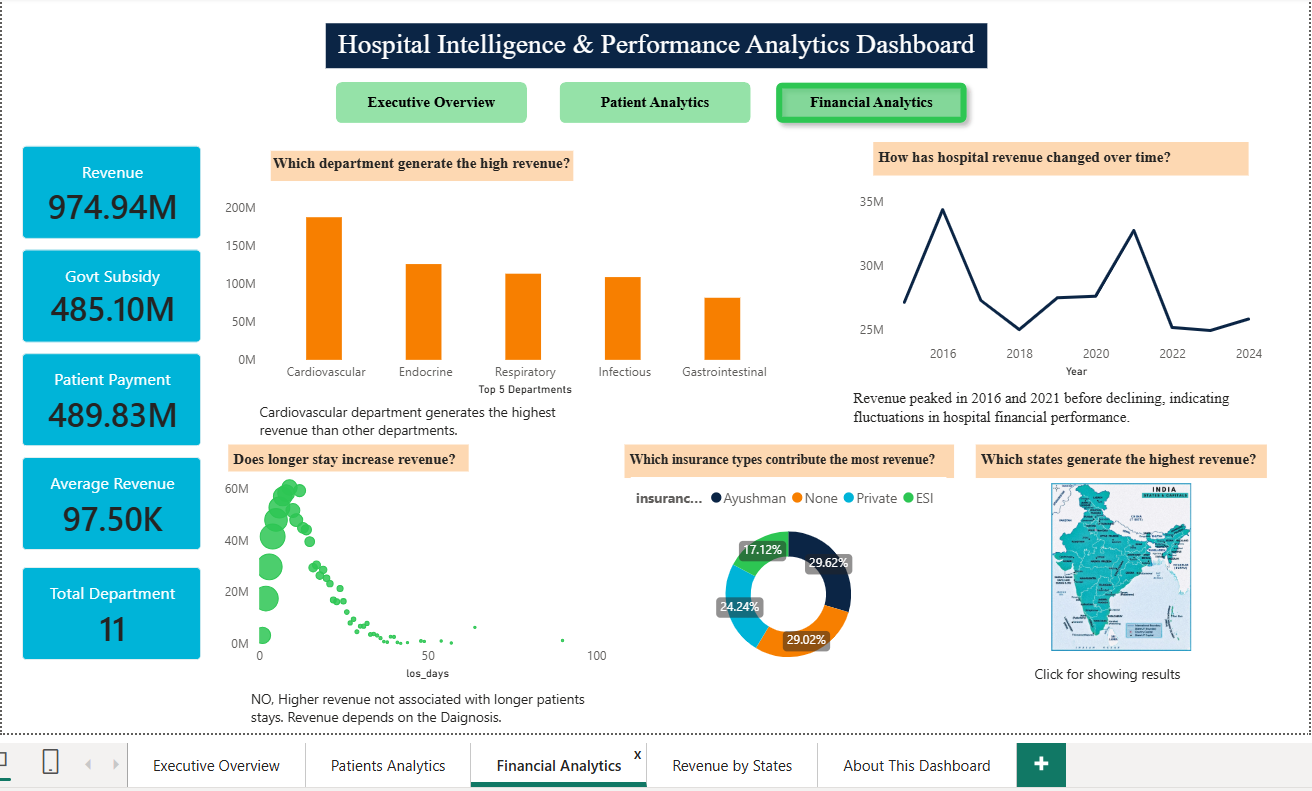

This screenshot's page, from the dashboard's own definition file:
{"tool":"powerbi","page":{"name":"Financial  Analytics","canvas":[1280,720],"ordinal":2},"visuals":[{"type":"textbox","box":[316.7,25.7,646.9,44],"z":0},{"type":"cardVisual","fields":{"Data":["Sum(public hospital_data.total_cost)"]},"box":[14.7,140.6,185.9,101.5],"z":1000},{"type":"cardVisual","fields":{"Data":["Sum(public hospital_data.govt_subsidy)"]},"box":[14.7,242.1,185.9,101.5],"z":2000},{"type":"cardVisual","fields":{"Data":["Sum(public hospital_data.patient_payment)"]},"box":[14.7,343.6,185.9,101.5],"z":3000},{"type":"cardVisual","fields":{"Data":["Avg(public hospital_data.total_cost)"]},"box":[14.7,445.1,185.9,101.5],"z":4000},{"type":"actionButton","box":[326.5,83.2,187.1,40.4],"z":5000},{"type":"actionButton","box":[545.4,83.2,187.1,40.4],"z":6000},{"type":"actionButton","box":[748.4,74.6,204.2,57.5],"z":7000},{"type":"columnChart","fields":{"Category":["public hospital_data.department"],"Y":["Sum(public hospital_data.total_cost)"]},"box":[212.8,192,557.6,203],"z":8000},{"type":"textbox","box":[262.9,150.4,295.9,29.3],"z":9000},{"type":"textbox","box":[608.8,437.5,322.5,32.5],"z":10000},{"type":"textbox","box":[247,391.3,348.5,53.8],"z":11000},{"type":"cardVisual","fields":{"Data":["public hospital_data.Total_Department"]},"box":[14.7,552.7,185.9,101.5],"z":12000},{"type":"lineChart","fields":{"Y":["Sum(public hospital_data.total_cost)"],"Category":["public hospital_data.admit_date.Variation.Date Hierarchy.Year"]},"box":[833.8,173.8,403.8,203.8],"z":13000},{"type":"textbox","box":[852.5,141.2,367.5,32.5],"z":14000},{"type":"textbox","box":[827.5,377.5,421.2,45],"z":15000},{"type":"donutChart","fields":{"Category":["public hospital_data.insurance_type"],"Y":["Sum(public hospital_data.total_cost)"]},"box":[615,470,308.8,200],"z":16000},{"type":"textbox","box":[952.5,437.5,285,32.5],"z":17000},{"type":"image","box":[1013.8,476.2,162.5,163.8],"z":18000},{"type":"textbox","box":[1005,647.5,171.2,25],"z":19000},{"type":"scatterChart","fields":{"X":["public hospital_data.los_days"],"Y":["Sum(public hospital_data.total_cost)"],"Size":["CountNonNull(public hospital_data.department)"]},"box":[212.5,441.2,383.8,231.2],"z":20000},{"type":"textbox","box":[221.2,437.5,235,26.2],"z":21000},{"type":"textbox","box":[238.8,672.5,345,47.5],"z":22000}]}

Visuals, with their boxes on the page's 1280x720 design canvas (x1, y1, x2, y2). These are canvas units, not pixel positions in the 1312x791 screenshot, which may show the page scaled, cropped or inside an application window:
textbox: [317,26,964,70]
cardVisual - Sum(public hospital_data.total_cost): [15,141,201,242]
cardVisual - Sum(public hospital_data.govt_subsidy): [15,242,201,344]
cardVisual - Sum(public hospital_data.patient_payment): [15,344,201,445]
cardVisual - Avg(public hospital_data.total_cost): [15,445,201,547]
actionButton: [326,83,514,124]
actionButton: [545,83,732,124]
actionButton: [748,75,953,132]
columnChart - public hospital_data.department x Sum(public hospital_data.total_cost): [213,192,770,395]
textbox: [263,150,559,180]
textbox: [609,438,931,470]
textbox: [247,391,596,445]
cardVisual - public hospital_data.Total_Department: [15,553,201,654]
lineChart - Sum(public hospital_data.total_cost) x public hospital_data.admit_date.Variation.Date Hierarchy.Year: [834,174,1238,378]
textbox: [852,141,1220,174]
textbox: [828,378,1249,422]
donutChart - public hospital_data.insurance_type x Sum(public hospital_data.total_cost): [615,470,924,670]
textbox: [952,438,1238,470]
image: [1014,476,1176,640]
textbox: [1005,648,1176,672]
scatterChart - public hospital_data.los_days x Sum(public hospital_data.total_cost): [212,441,596,672]
textbox: [221,438,456,464]
textbox: [239,672,584,720]
